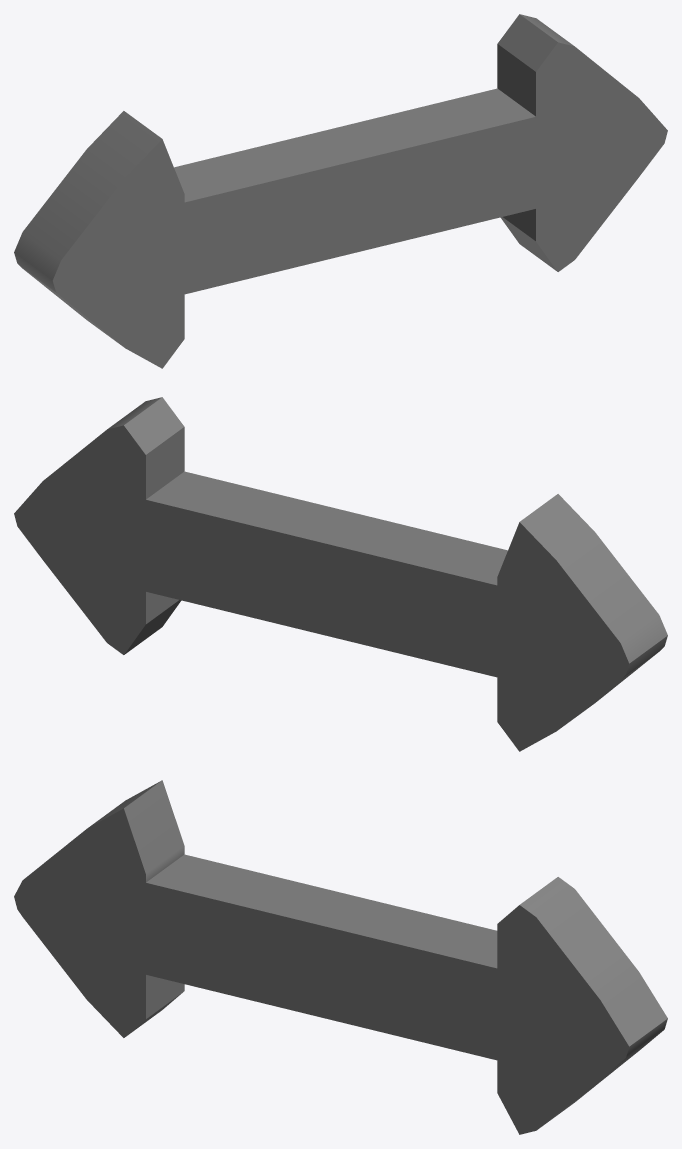
Rendered from fa-arrows-h.obj.
3 renders of one model, top to bottom at view 1: azimuth 30°, elevation 25°; view 2: azimuth 150°, elevation 25°; view 3: azimuth 330°, elevation 25°, orthographic.
Size of the model in its own units: 1.06 by 0.3779 by 0.1152.
1 material, 1 textured.
